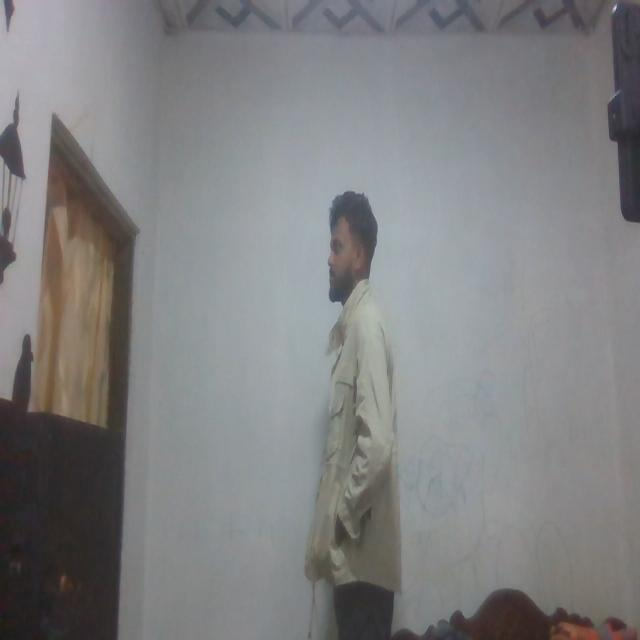Jacket_Wearer: (310, 292, 408, 588)
Person: (287, 173, 407, 633)
